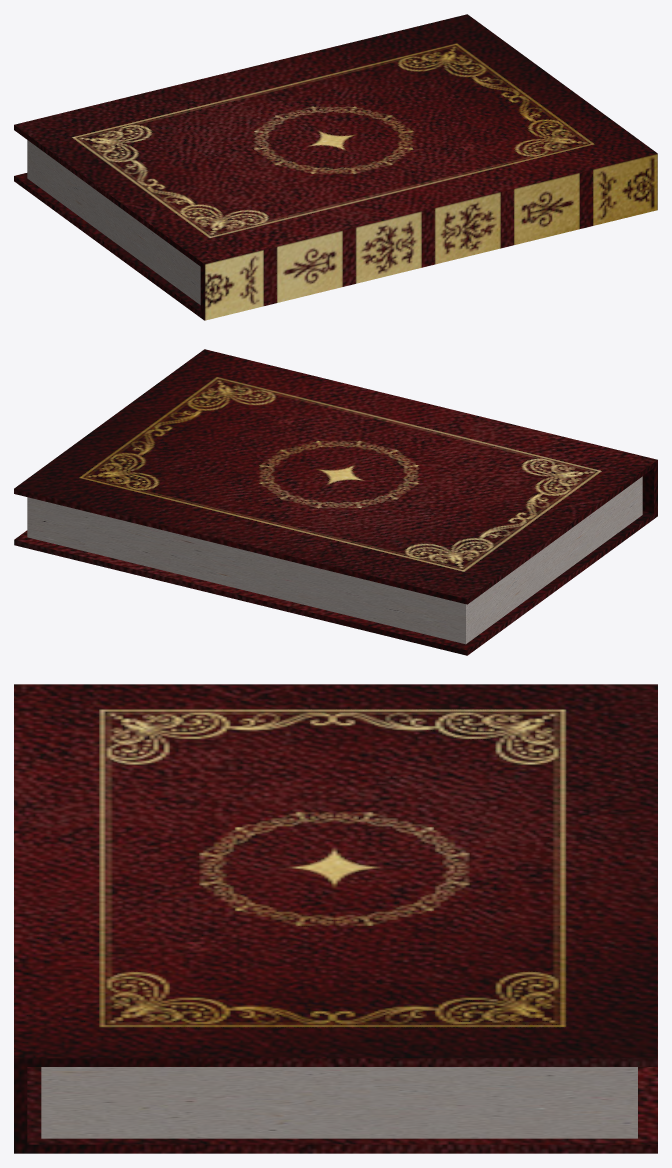
Rendered from Livre_Rouge_Low_2.gltf.
3 views of the same model, one above another, from view 1: azimuth 30°, elevation 25°; view 2: azimuth 150°, elevation 25°; view 3: azimuth 270°, elevation 25° (orthographic). The views are drawn at different scales.
Visible parts, largest first — view 1: Plane.001, Livre_Rouge; view 2: Plane.001, Livre_Rouge; view 3: Livre_Rouge, Plane.001.
Boxes of the visible parts, x1,y1,x2,y2 form: Plane.001: [14, 14, 657, 320]; Livre_Rouge: [14, 15, 614, 318]; Plane.001: [14, 349, 657, 655]; Livre_Rouge: [14, 349, 657, 654]; Livre_Rouge: [14, 684, 657, 1153]; Plane.001: [14, 684, 657, 1153].
Bounding box in the file's own units: 0.3076 × 0.0366 × 0.224.
4 materials, 4 textured.
